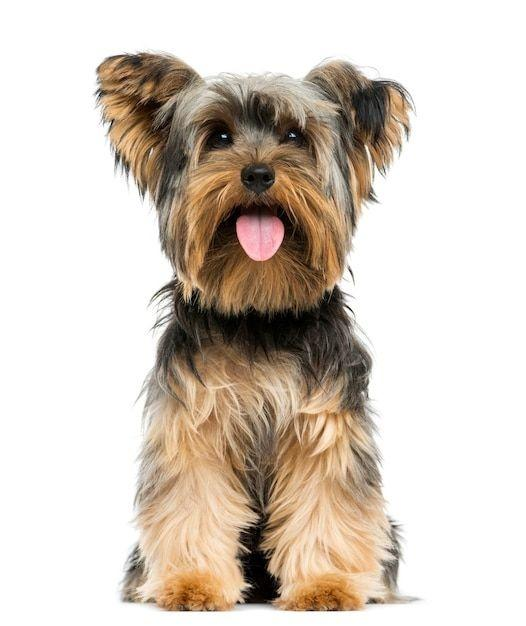adult_dog: (86, 48, 418, 613)
